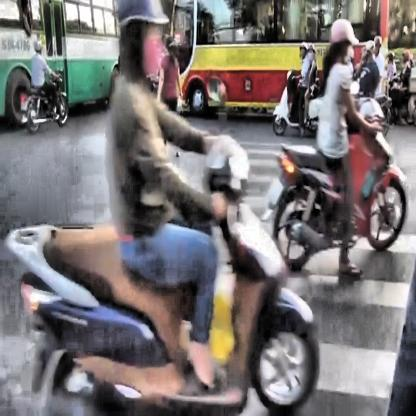wear: (114, 0, 169, 92), (328, 16, 357, 62)
